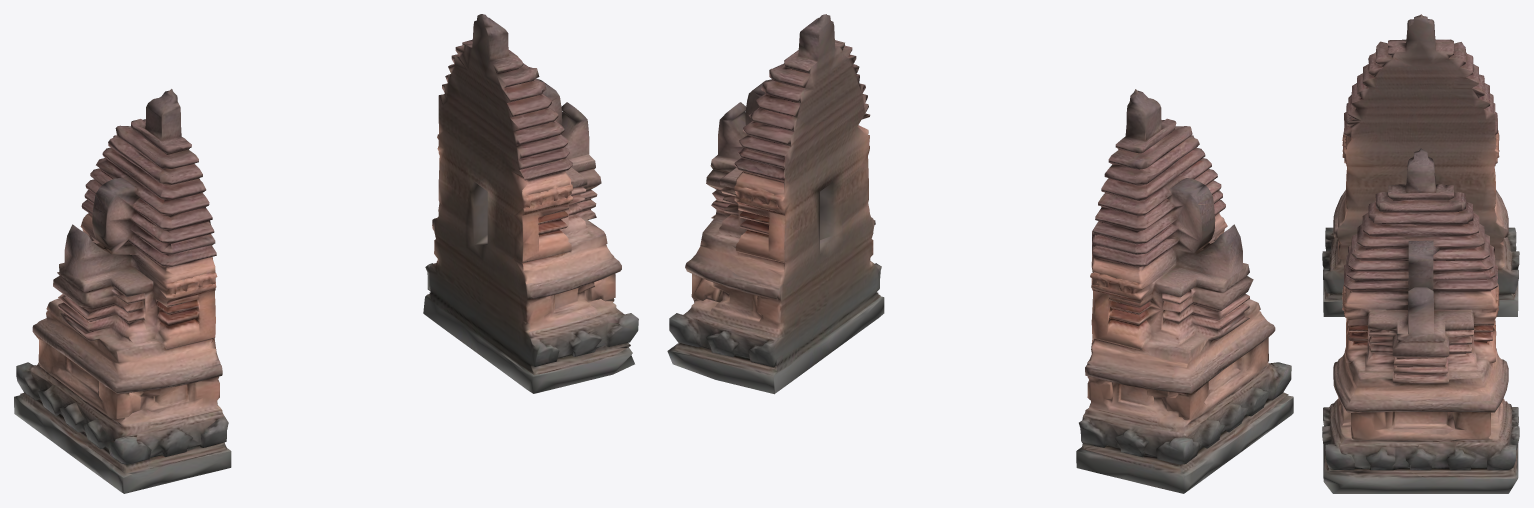
Rendered from gerbang_bhagawan.glb.
3 views of the same model, side by side, from view 1: azimuth 30°, elevation 25°; view 2: azimuth 150°, elevation 25°; view 3: azimuth 270°, elevation 25° (orthographic). The views are drawn at different scales.
Parts seen in each view (by area): view 1: tripo_node_3f8a814e-6cc9-4e4d-80e5-c1f8f629eaa4; view 2: tripo_node_3f8a814e-6cc9-4e4d-80e5-c1f8f629eaa4; view 3: tripo_node_3f8a814e-6cc9-4e4d-80e5-c1f8f629eaa4.
Part boxes in pixels (x1,y1,x2,y2): tripo_node_3f8a814e-6cc9-4e4d-80e5-c1f8f629eaa4: (14, 14, 638, 493); tripo_node_3f8a814e-6cc9-4e4d-80e5-c1f8f629eaa4: (667, 14, 1293, 493); tripo_node_3f8a814e-6cc9-4e4d-80e5-c1f8f629eaa4: (1322, 14, 1519, 493).
Bounding box in the file's own units: 1 × 0.6262 × 0.3714.
Materials: 1 (1 with a texture image).
